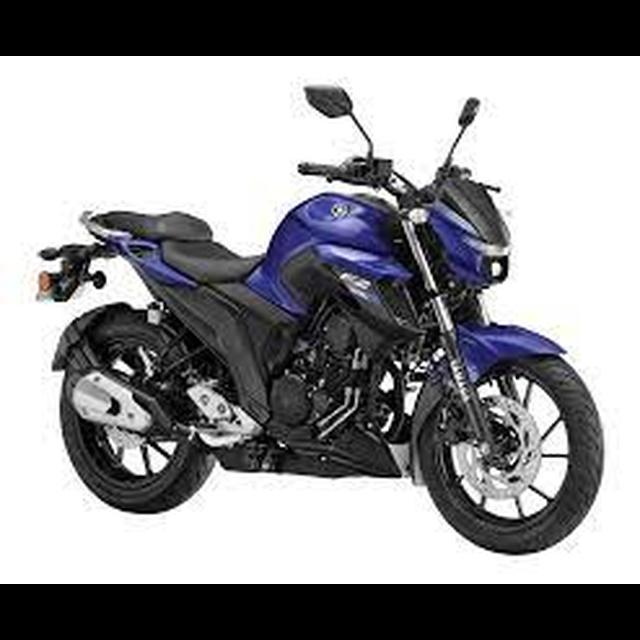motorcycle: (29, 77, 609, 561)
